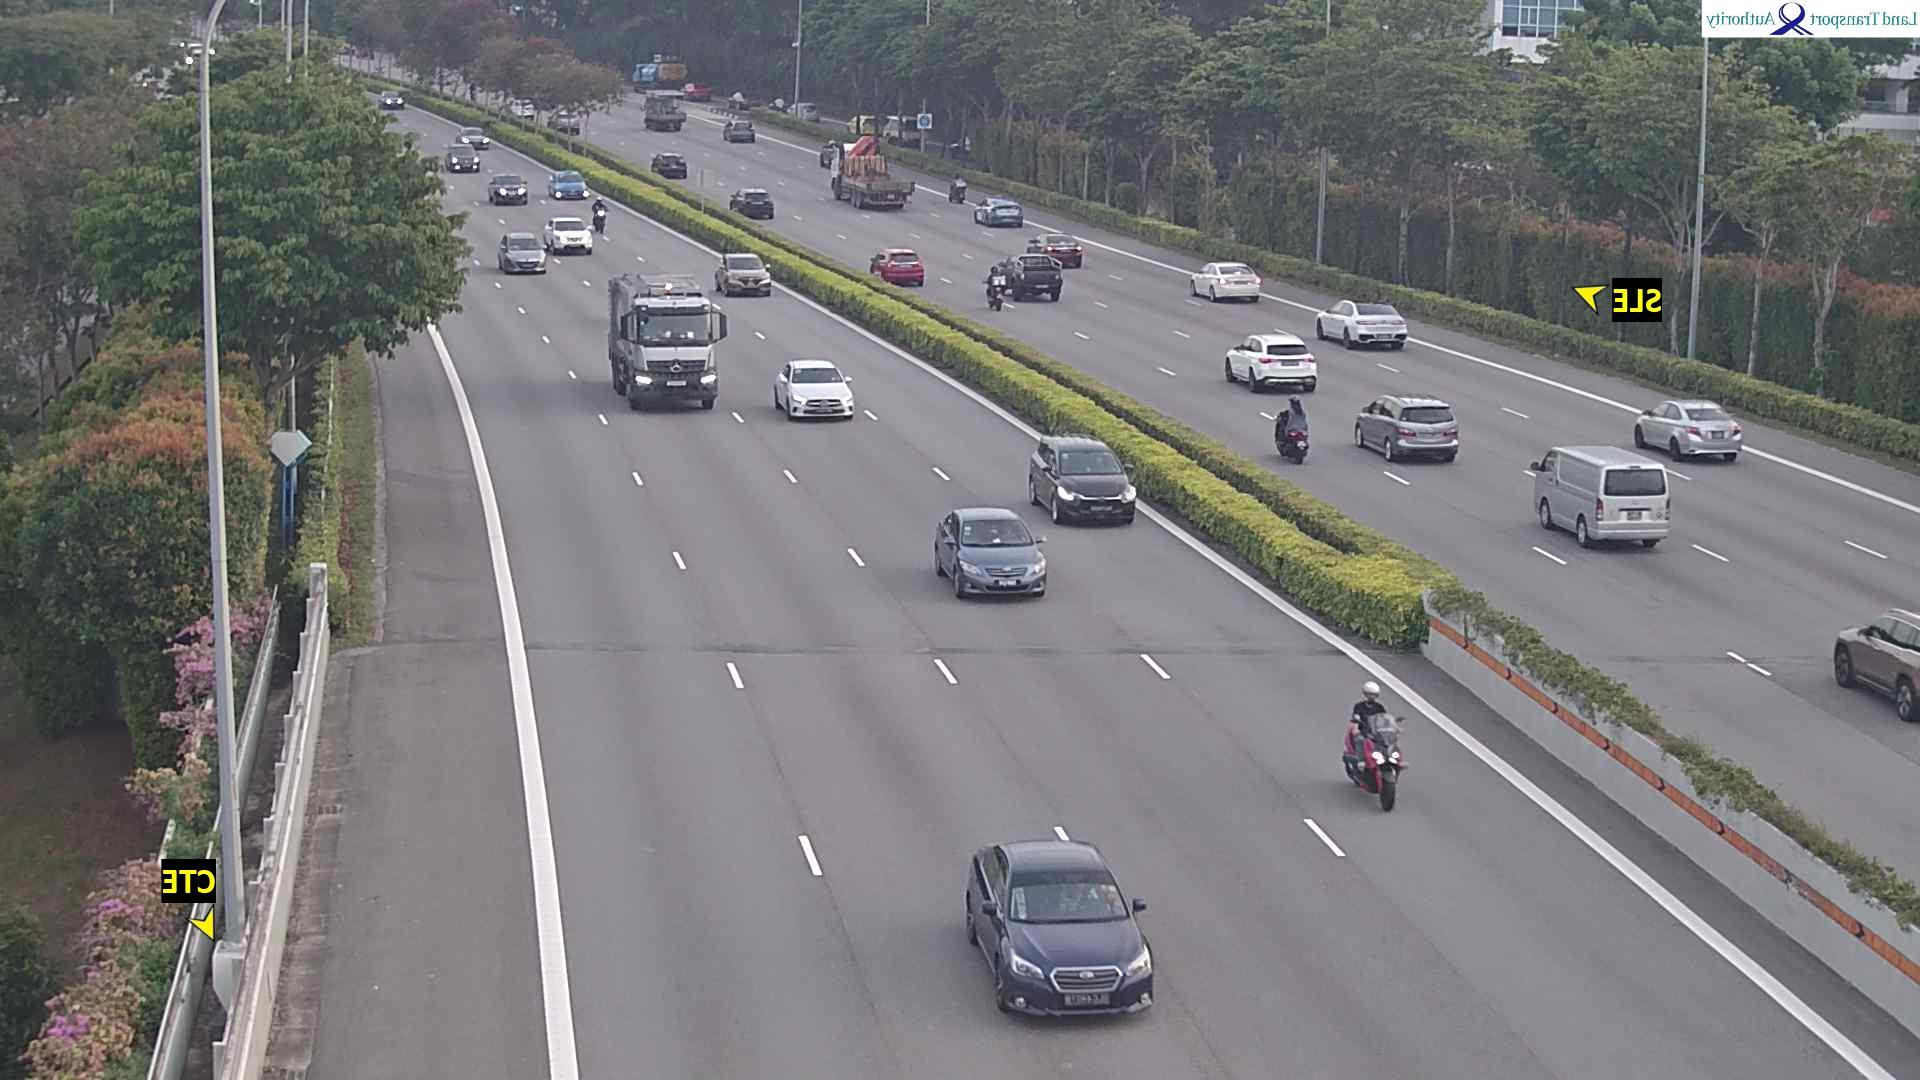cars: (965, 825, 1156, 1021), (1527, 443, 1672, 549), (934, 505, 1048, 599), (1029, 433, 1138, 525), (1834, 607, 1920, 721), (1356, 394, 1461, 463), (1634, 397, 1745, 462), (1225, 330, 1319, 393), (774, 357, 856, 421), (1316, 299, 1410, 349), (1189, 260, 1263, 302), (1009, 253, 1064, 302), (716, 251, 773, 295), (870, 247, 926, 287), (498, 229, 549, 273), (1027, 231, 1084, 268), (545, 215, 595, 255), (975, 195, 1025, 225), (811, 137, 851, 175), (731, 186, 775, 219), (543, 104, 585, 138), (488, 171, 529, 204), (549, 167, 589, 199), (844, 111, 881, 140), (446, 142, 481, 171), (502, 95, 538, 123), (651, 152, 688, 178), (947, 129, 977, 161), (723, 116, 756, 142), (458, 127, 491, 148), (789, 102, 820, 123), (684, 82, 712, 102), (380, 90, 406, 109)
motorcycle: (1341, 676, 1408, 812), (1274, 396, 1311, 464), (985, 264, 1005, 311), (592, 198, 609, 233), (949, 178, 968, 203)
trucks: (608, 270, 729, 410), (831, 138, 916, 208), (628, 49, 688, 98), (881, 112, 930, 149), (644, 90, 687, 131)
